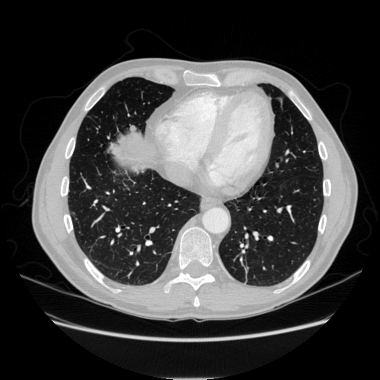nodule: (130, 126, 134, 130)
